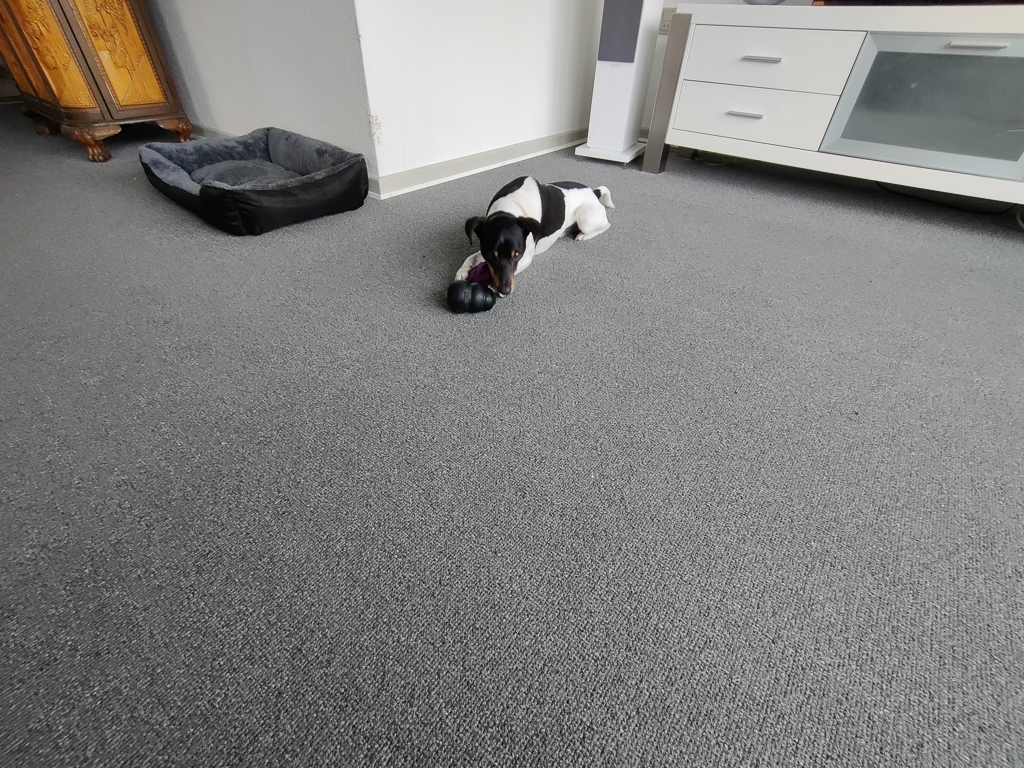Dog: (445, 167, 625, 307)
